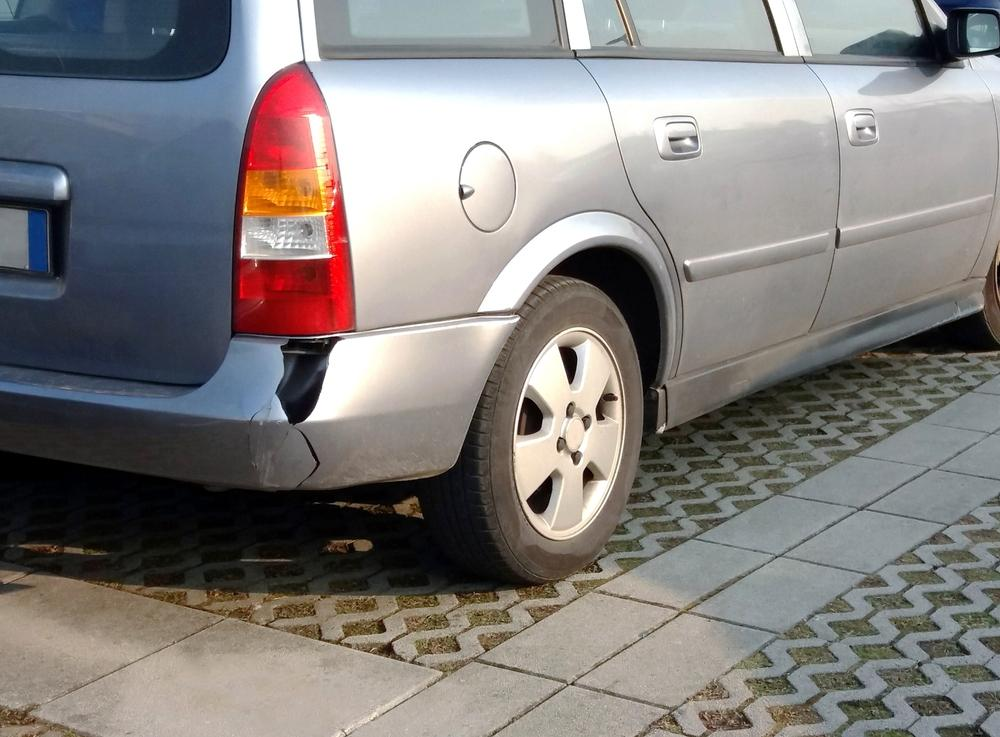crack: (247, 336, 345, 489)
